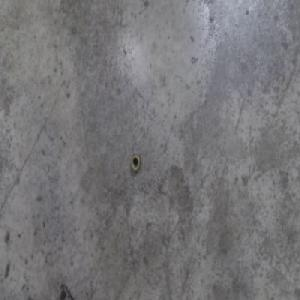Nut: (129, 152, 141, 172)
